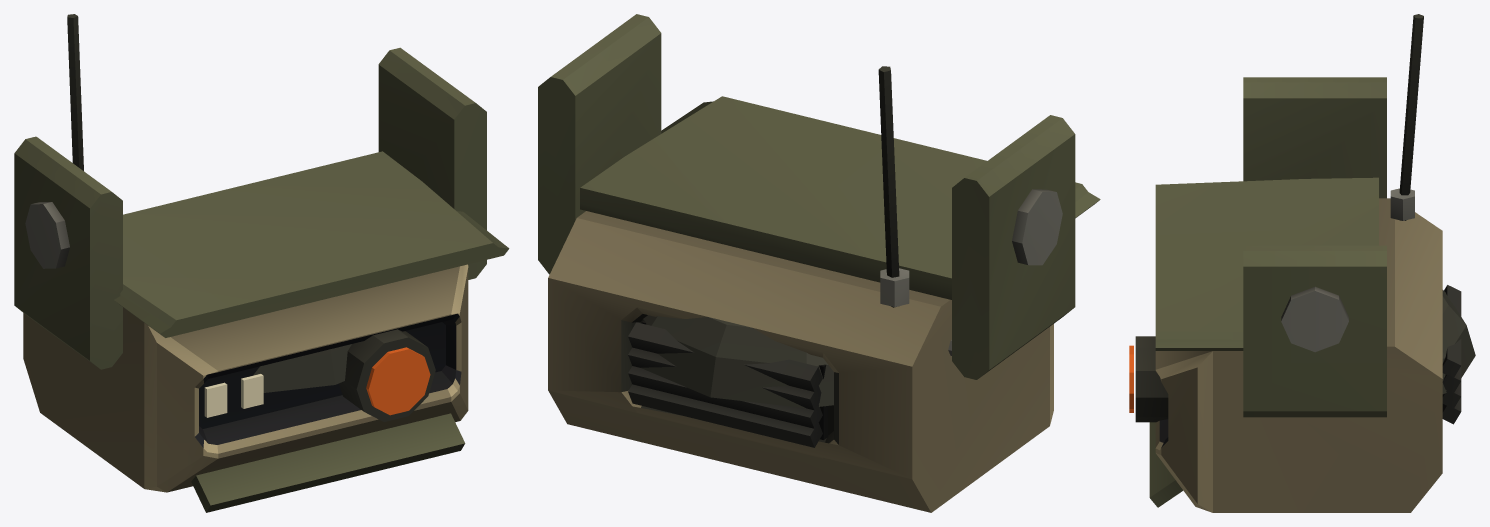
Rendered from sensor-visor.glb.
3 views of the same model, side by side, from view 1: azimuth 30°, elevation 25°; view 2: azimuth 150°, elevation 25°; view 3: azimuth 270°, elevation 25° (orthographic). The views are drawn at different scales.
Visible parts, largest first — view 1: HeadPitch_Mesh, Head_Mesh, HeadPitch_Glow, Body; view 2: HeadPitch_Mesh, Head_Mesh, Body; view 3: HeadPitch_Mesh, Head_Mesh, Body.
Boxes of the visible parts, x1,y1,x2,y2 form: HeadPitch_Mesh: (23,14,509,512); Head_Mesh: (14,47,486,369); HeadPitch_Glow: (204,347,430,417); Body: (253,344,351,392); HeadPitch_Mesh: (548,66,1100,512); Head_Mesh: (538,14,1075,379); Body: (640,315,833,408); HeadPitch_Mesh: (1135,14,1461,512); Head_Mesh: (1243,77,1386,417); Body: (1442,290,1475,394).
Bounding box in the file's own units: 1.14 × 1.04 × 0.8688.
